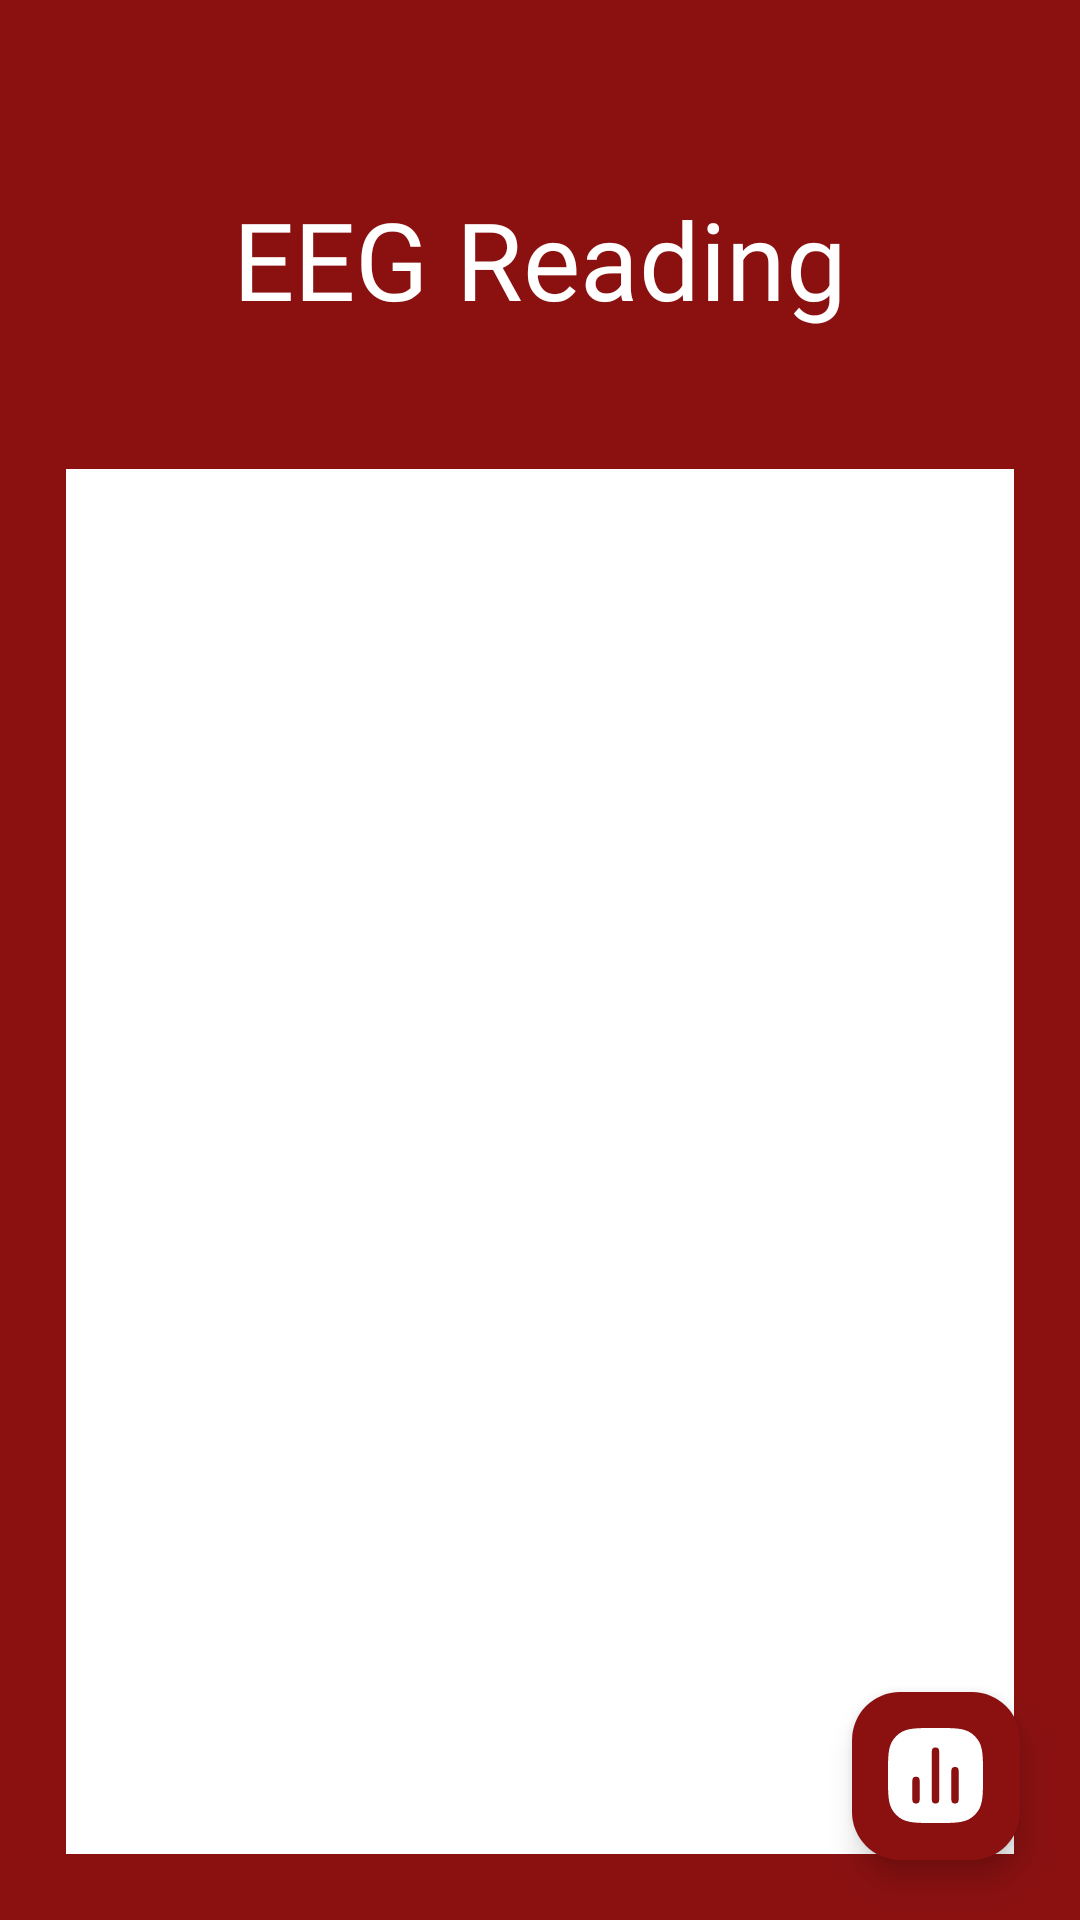

Named icons in this screenshot (1080×1920) and their centers, point (x, y):
basel graph: point (936, 1776)
